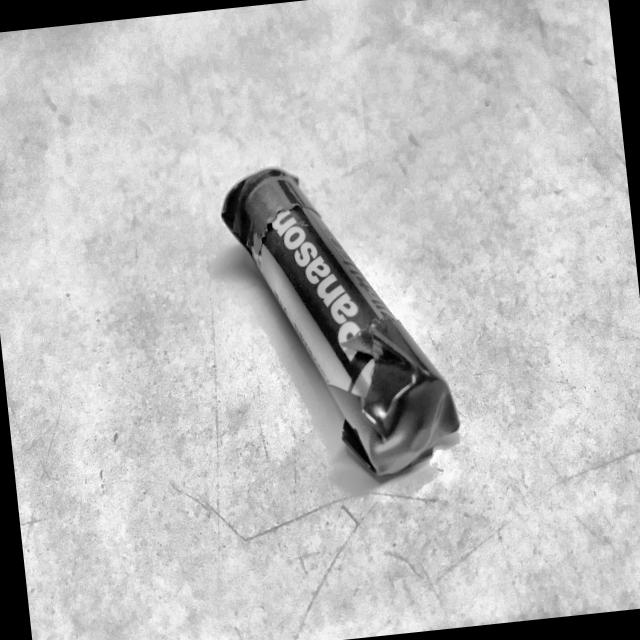drycell: (216, 142, 475, 502)
